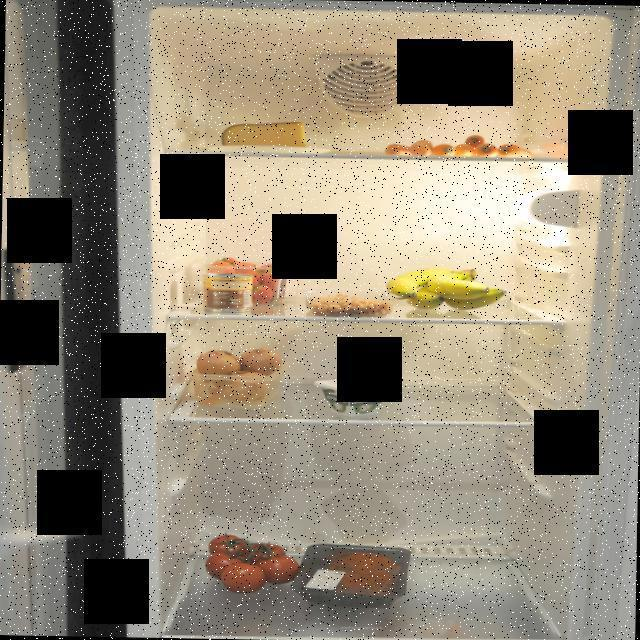banana: (383, 265, 505, 306)
beef: (320, 551, 390, 595)
carrot: (384, 131, 543, 161)
cheese: (219, 118, 311, 153)
corn: (200, 274, 255, 315)
goat_cheese: (312, 376, 396, 416)
onion: (193, 346, 280, 406)
shrimp: (304, 288, 398, 317)
strawberries: (200, 258, 299, 306)
tomato: (204, 531, 302, 594)
